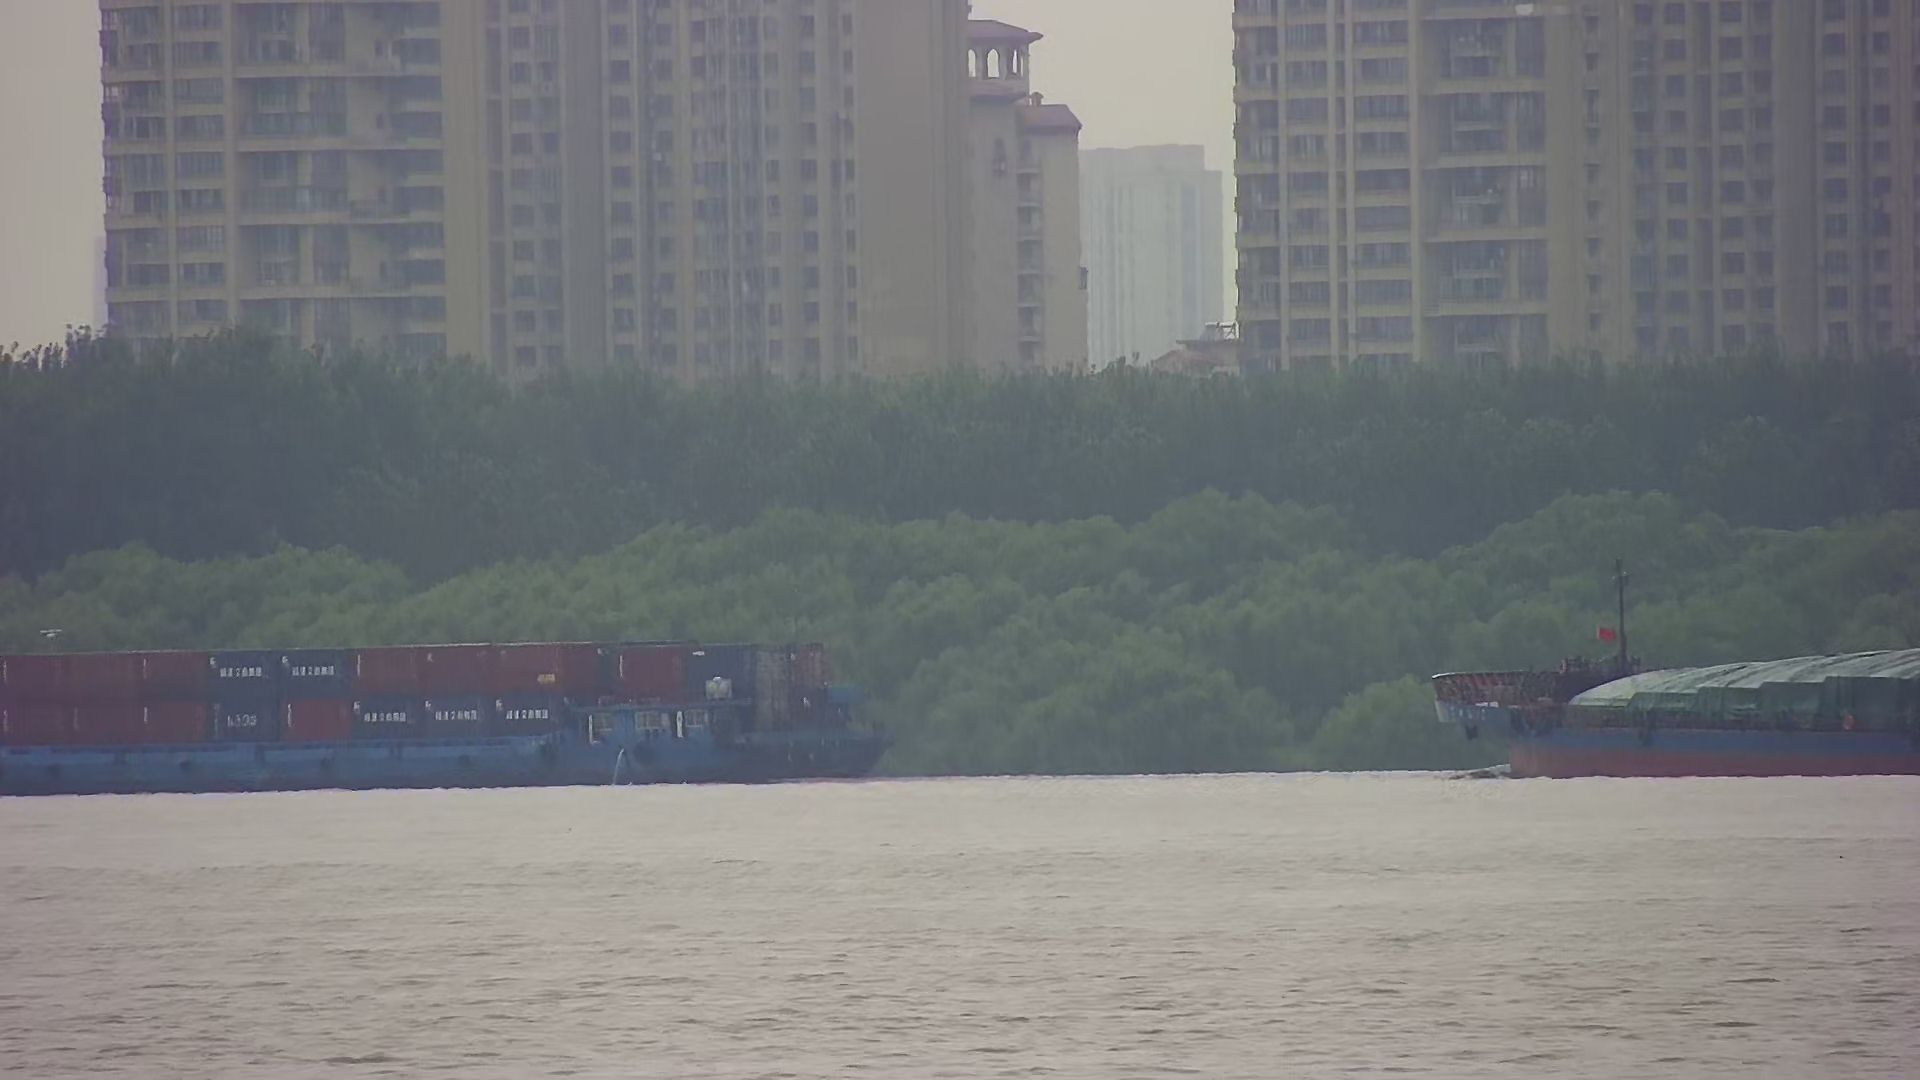ship: (1, 625, 881, 796), (1433, 560, 1920, 777)
